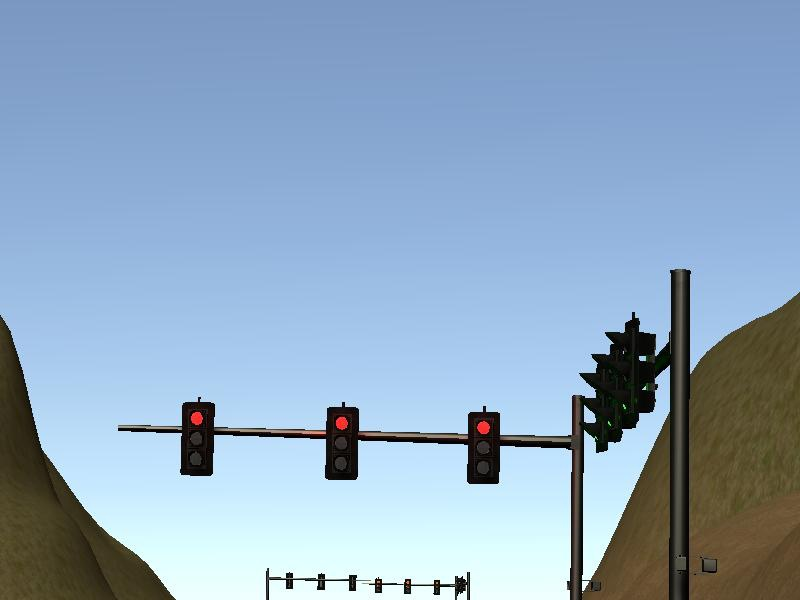Red: (179, 400, 215, 476), (324, 406, 360, 482), (467, 411, 503, 487)
